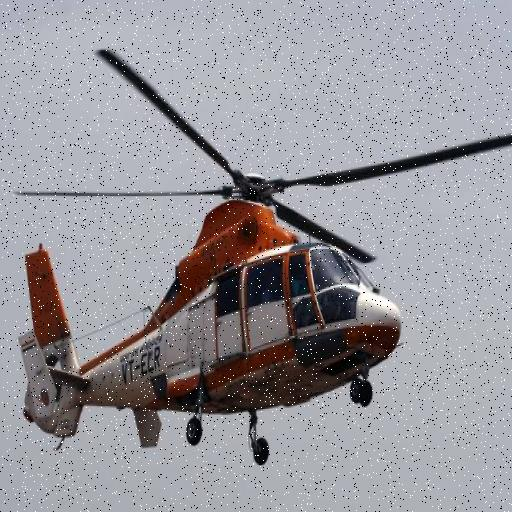helicopter: (3, 38, 512, 482)
